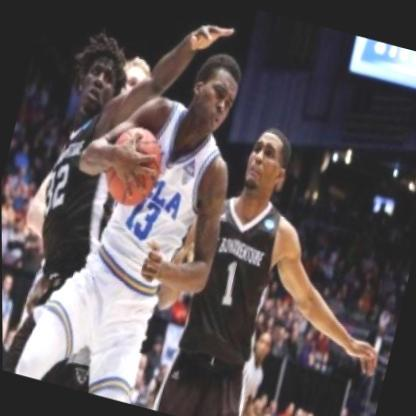basketball: (95, 115, 173, 217)
